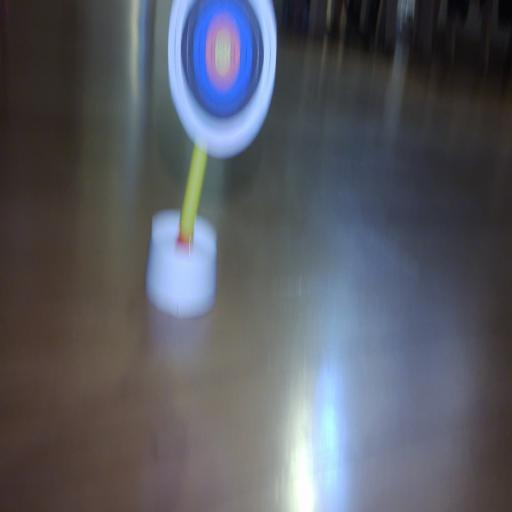target: (169, 0, 275, 157)
